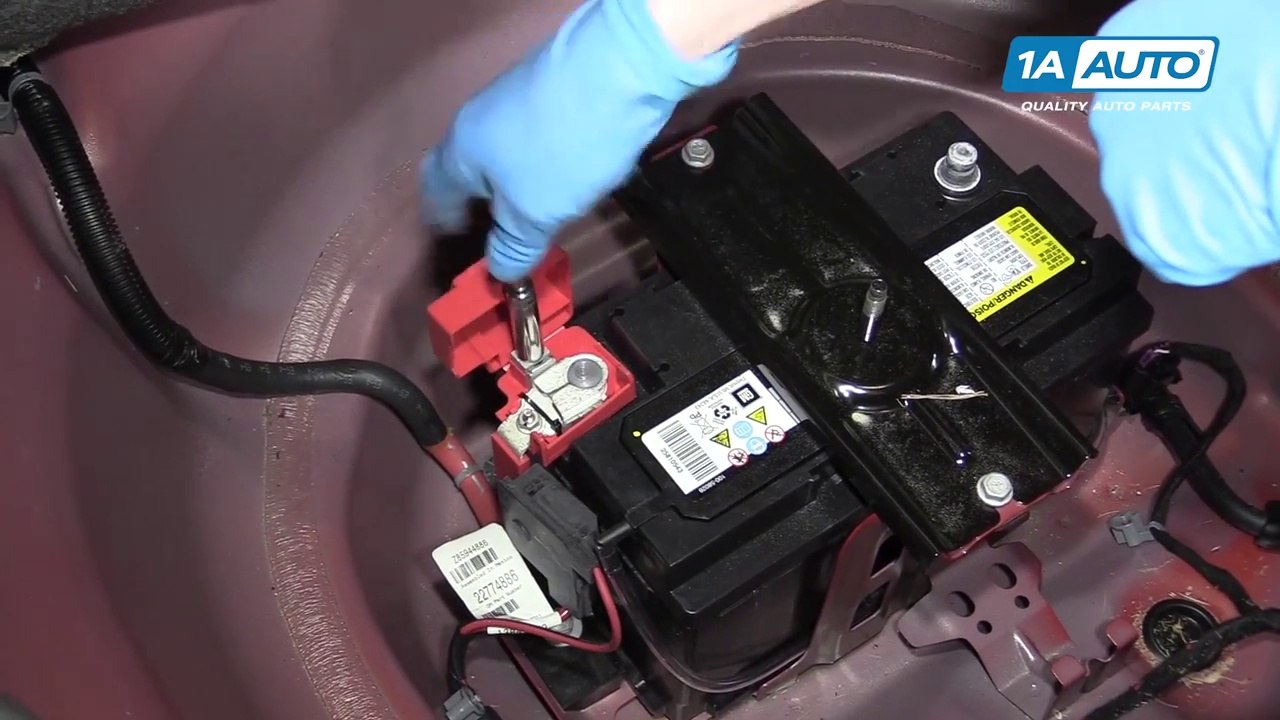battery: (480, 137, 1154, 583)
neg_disconnected: (904, 118, 1015, 213)
pos_connected: (445, 256, 654, 481)
pos_touched: (384, 123, 648, 471)
